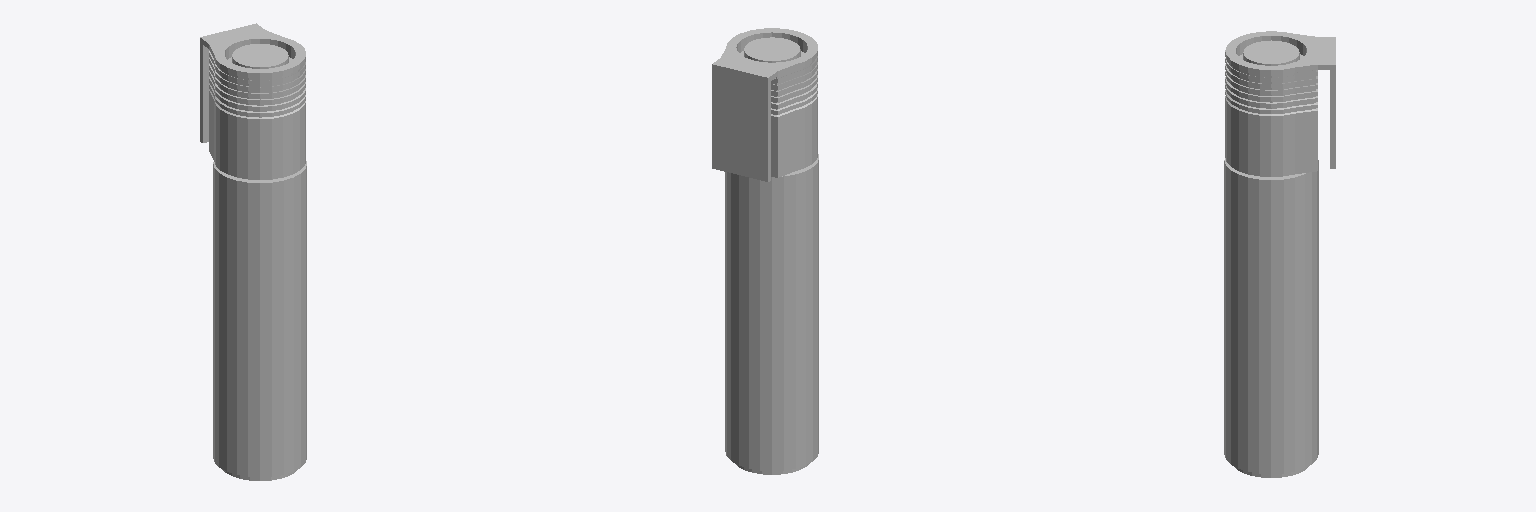
Rendered from pen.obj.
3 views of the same model, side by side, from view 1: azimuth 30°, elevation 25°; view 2: azimuth 150°, elevation 25°; view 3: azimuth 270°, elevation 25° (orthographic).
Visible parts, largest first — view 1: Cube; view 2: Cube; view 3: Cube.
Boxes of the visible parts, <box> form: Cube: <box>200,23,306,480</box>; Cube: <box>712,28,818,474</box>; Cube: <box>1224,31,1335,477</box>.
Bounding box in the file's own units: 2 × 9.62 × 2.36.